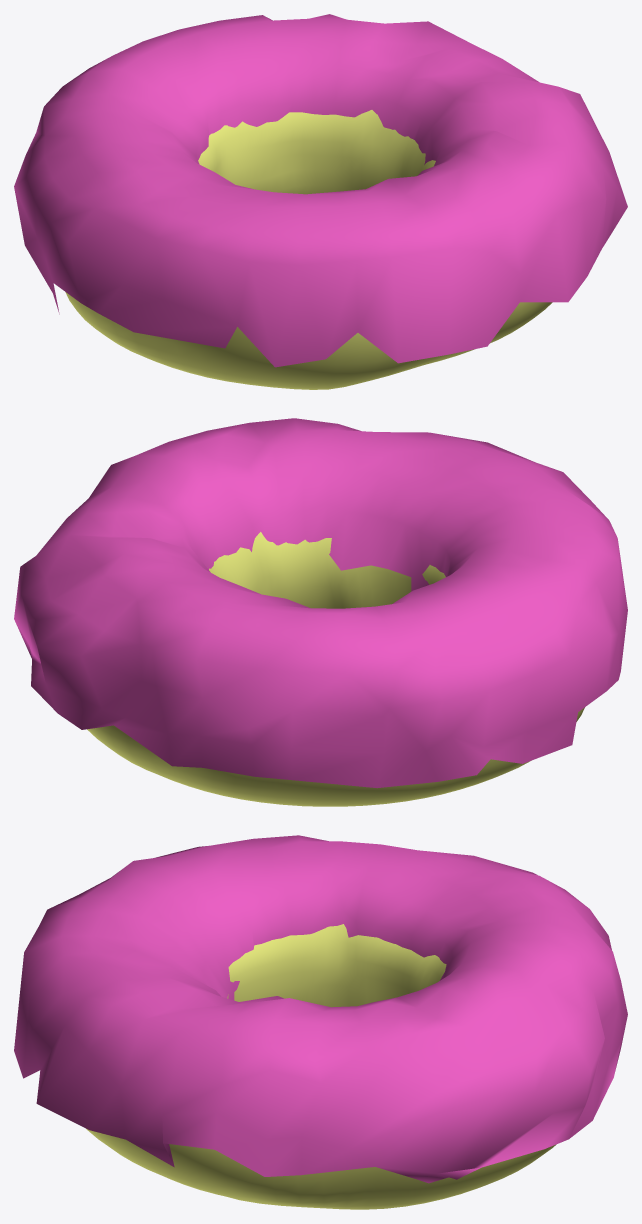
File: Donut10.glb
3 renders of one model, top to bottom at view 1: azimuth 30°, elevation 25°; view 2: azimuth 150°, elevation 25°; view 3: azimuth 270°, elevation 25°, orthographic. The views are drawn at different scales.
Parts seen in each view (by area): view 1: Icing, Donut; view 2: Icing, Donut; view 3: Icing, Donut.
Boxes of the visible parts, <box> form: Icing: <box>14,14,627,367</box>; Donut: <box>65,110,552,389</box>; Icing: <box>14,418,627,788</box>; Donut: <box>87,532,584,806</box>; Icing: <box>14,835,627,1183</box>; Donut: <box>86,924,556,1209</box>.
Bounding box in the file's own units: 0.1734 × 0.0623 × 0.1725.
